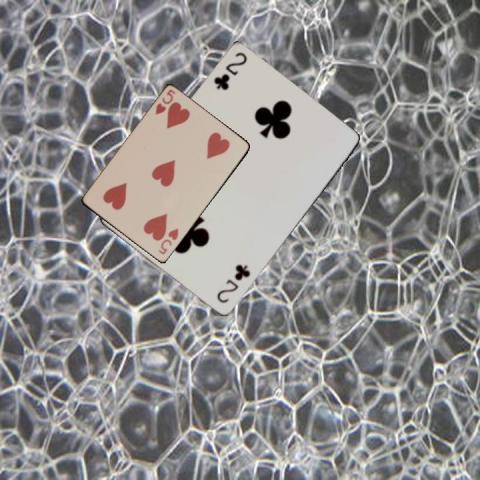2c: (213, 262, 252, 305), (211, 49, 248, 92)
5h: (155, 225, 180, 257), (152, 86, 177, 116)
